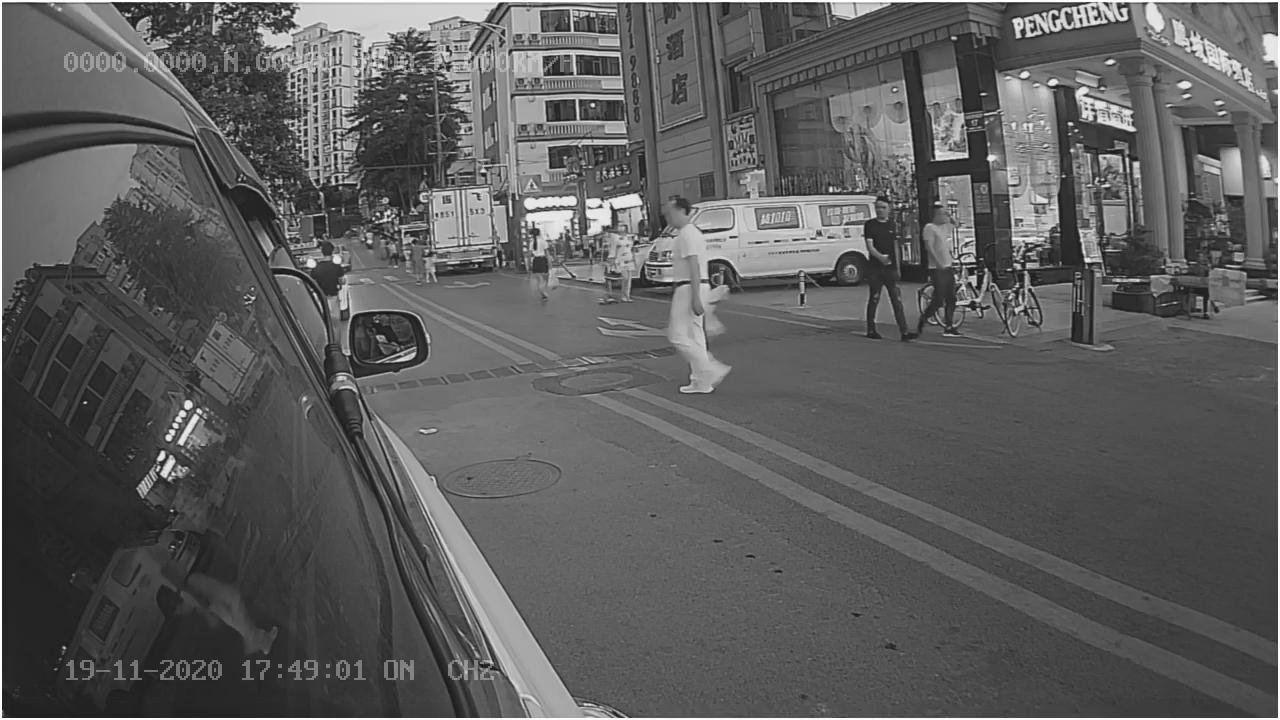person: (654, 189, 740, 405)
